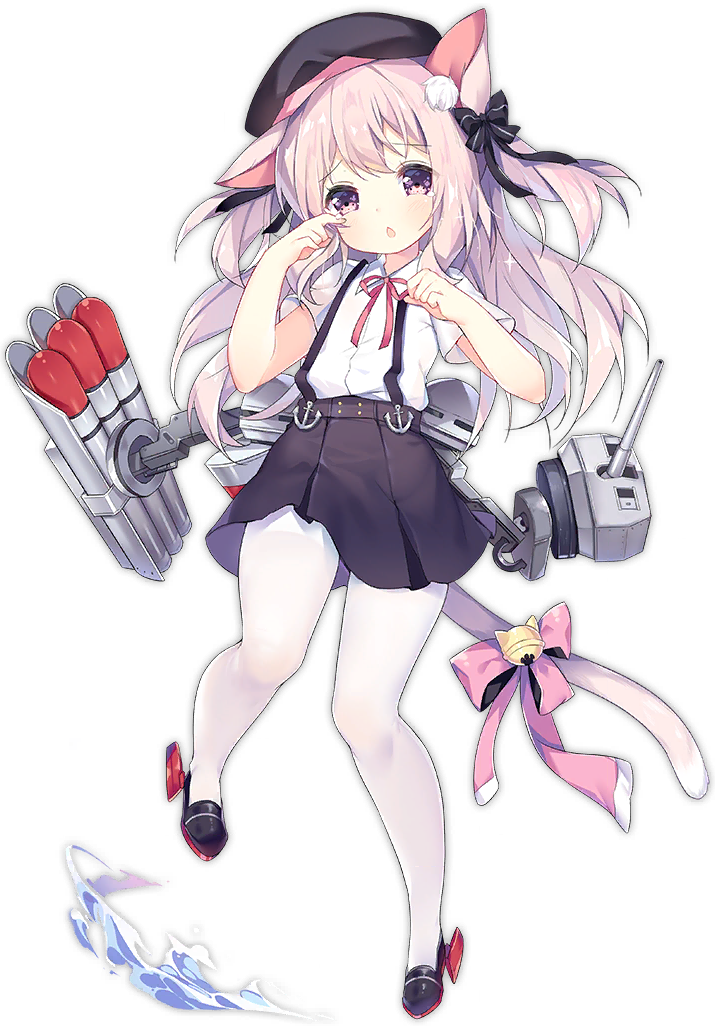person: (123, 15, 612, 877)
